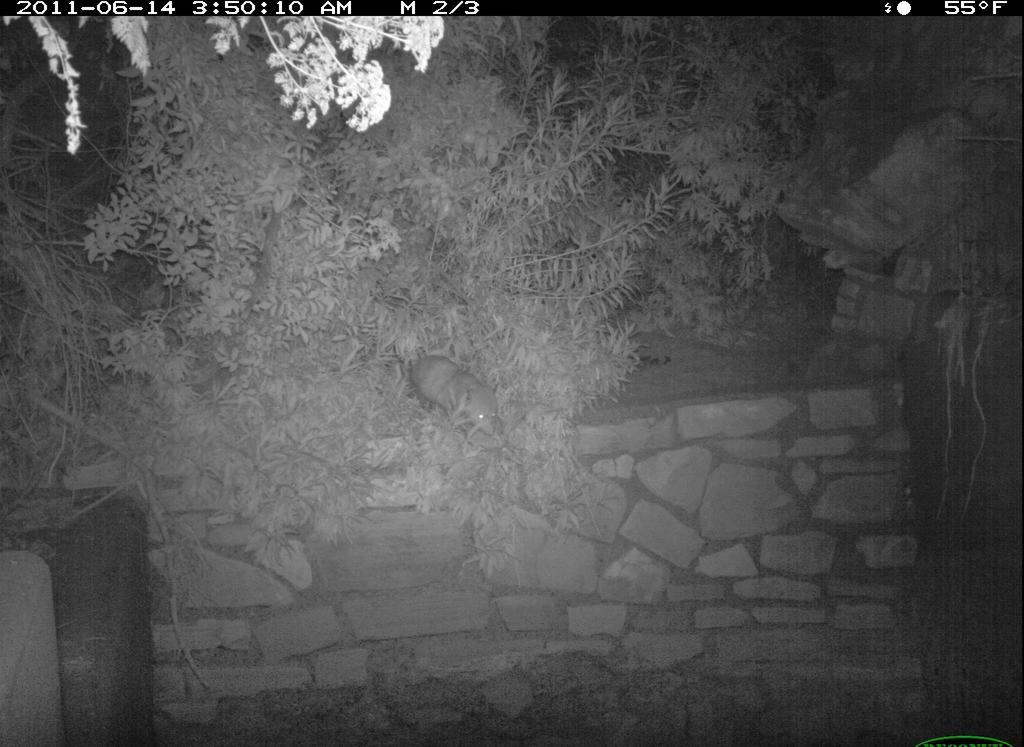opossum: (378, 331, 530, 464)
